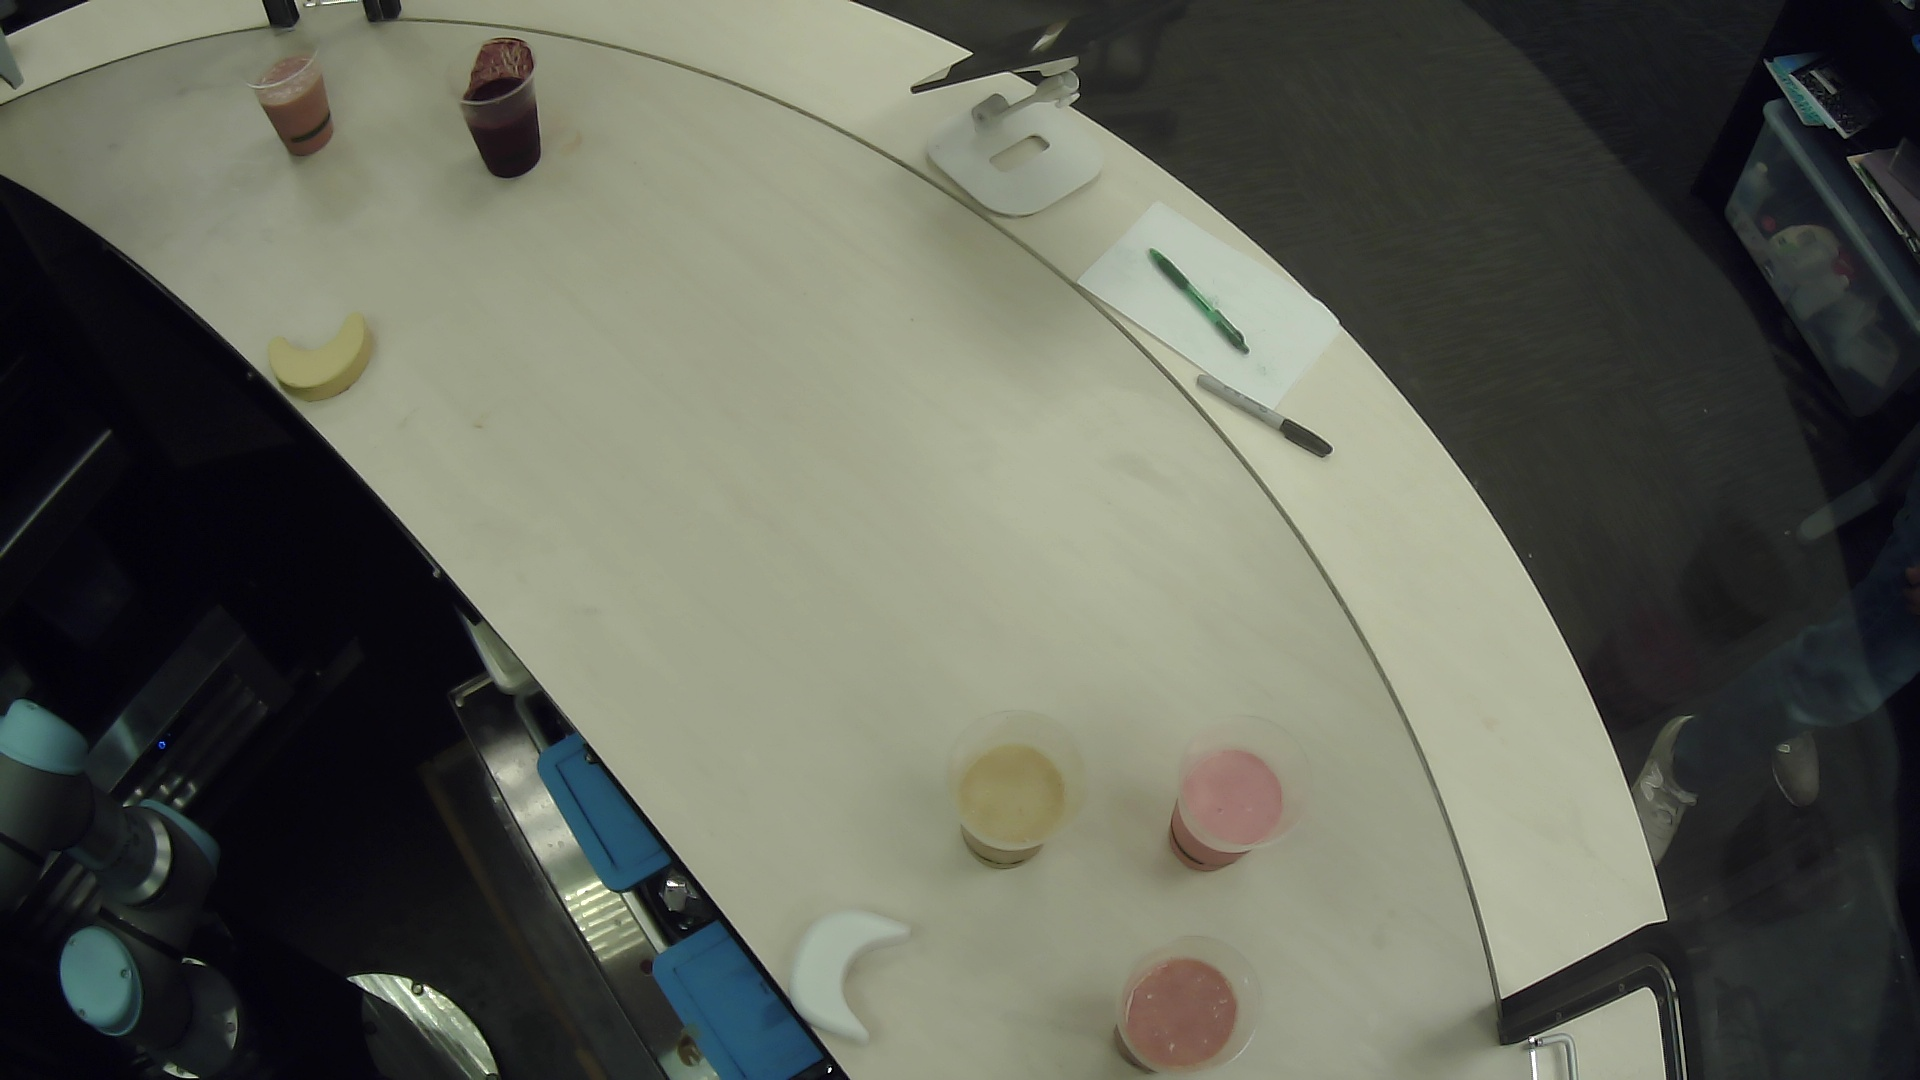Deliver: (777, 889, 927, 1048), (252, 307, 394, 422)
Full_cup: (902, 695, 1102, 882), (1158, 713, 1333, 882), (1084, 934, 1283, 1080), (423, 13, 560, 200), (222, 32, 369, 169)
